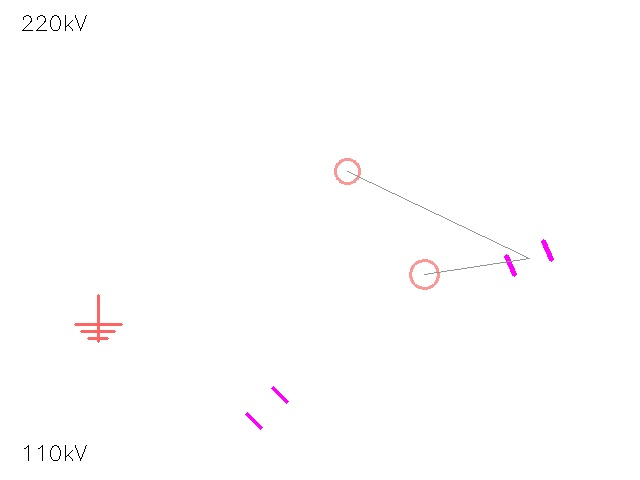capacitor: (496, 225, 562, 291), (237, 378, 297, 438)
feeder_terminal: (395, 245, 453, 303)
fuse: (323, 147, 371, 195)
ground: (75, 295, 121, 341)
